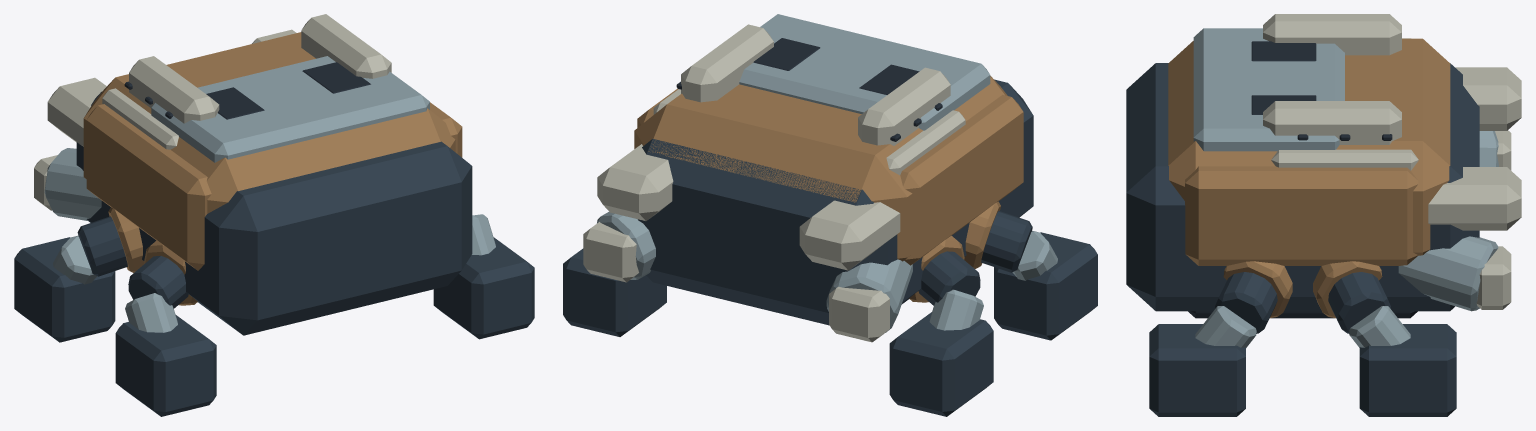
Rendered from scrapper.glb.
The picture shows the model from 3 angles, left to right: view 1: azimuth 30°, elevation 25°; view 2: azimuth 150°, elevation 25°; view 3: azimuth 270°, elevation 25°; orthographic projection. The views are drawn at different scales.
Parts seen in each view (by area): view 1: L0_Chassis, L2_Hip2, L0_Turret, L2_Hip0, L2_Hip3, L0_Weapon, L0_Hip0, L0_Hip2; view 2: L0_Chassis, L0_Turret, L2_Hip0, L0_Weapon, L2_Hip2, L2_Hip1, L0_Hip2, L0_Hip0; view 3: L0_Chassis, L0_Turret, L2_Hip1, L2_Hip3, L0_Weapon, L0_Hip3, L0_Hip1.
Part boxes in pixels (box(x1,y1,x2,y2)): L0_Chassis: box(47, 29, 472, 335); L2_Hip2: box(115, 293, 216, 416); L0_Turret: box(129, 14, 391, 123); L2_Hip0: box(14, 235, 115, 342); L2_Hip3: box(433, 214, 534, 339); L0_Weapon: box(34, 148, 101, 220); L0_Hip0: box(77, 207, 143, 276); L0_Hip2: box(128, 240, 197, 308); L0_Chassis: box(597, 14, 1033, 325); L0_Turret: box(681, 24, 950, 145); L2_Hip0: box(889, 289, 993, 416); L0_Weapon: box(583, 212, 912, 342); L2_Hip2: box(994, 230, 1097, 340); L2_Hip1: box(563, 248, 666, 336); L0_Hip2: box(964, 201, 1032, 272); L0_Hip0: box(909, 235, 980, 305); L0_Chassis: box(1126, 28, 1521, 318); L0_Turret: box(1251, 14, 1401, 144); L2_Hip1: box(1349, 306, 1456, 416); L2_Hip3: box(1149, 306, 1256, 416); L0_Weapon: box(1398, 130, 1511, 311); L0_Hip3: box(1215, 261, 1292, 333); L0_Hip1: box(1313, 261, 1390, 333).
Size of the model in its own units: 1.08 by 0.69 by 0.94.
